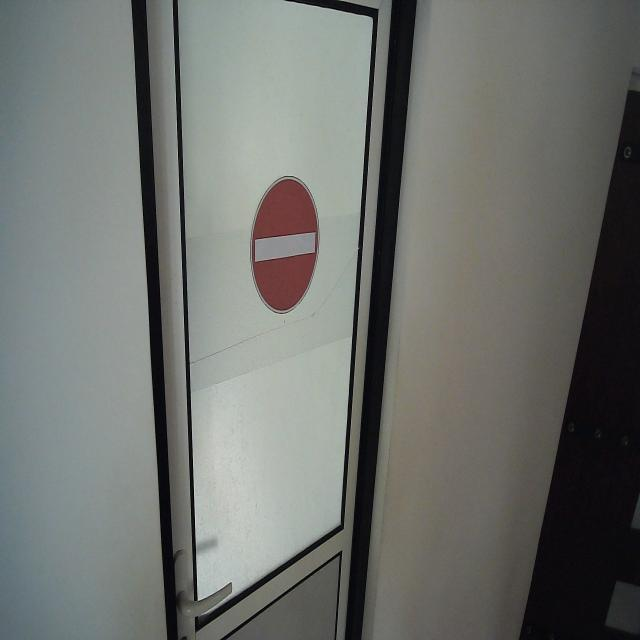no_entry: (250, 173, 322, 316)
